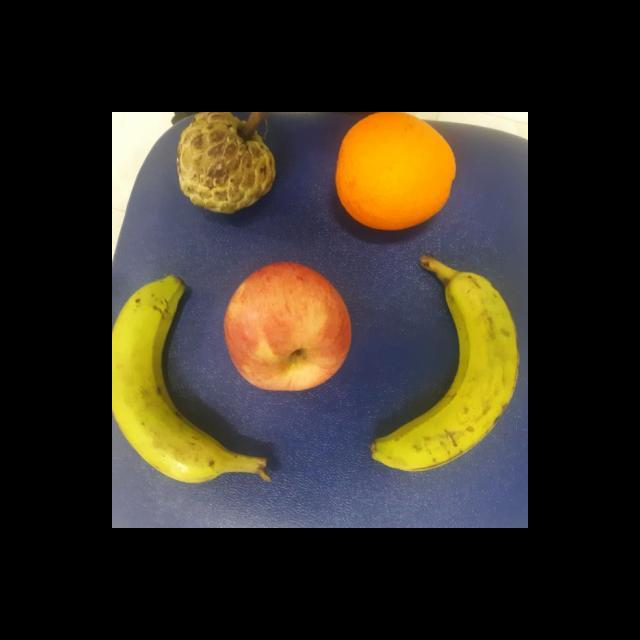Sakya fruit: (168, 112, 276, 221)
apple: (222, 260, 358, 394)
banana: (364, 270, 526, 475), (112, 278, 228, 493)
orange: (332, 112, 458, 236)
